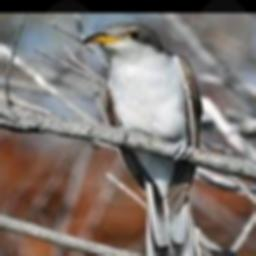Cuckoo: (83, 22, 204, 256)
